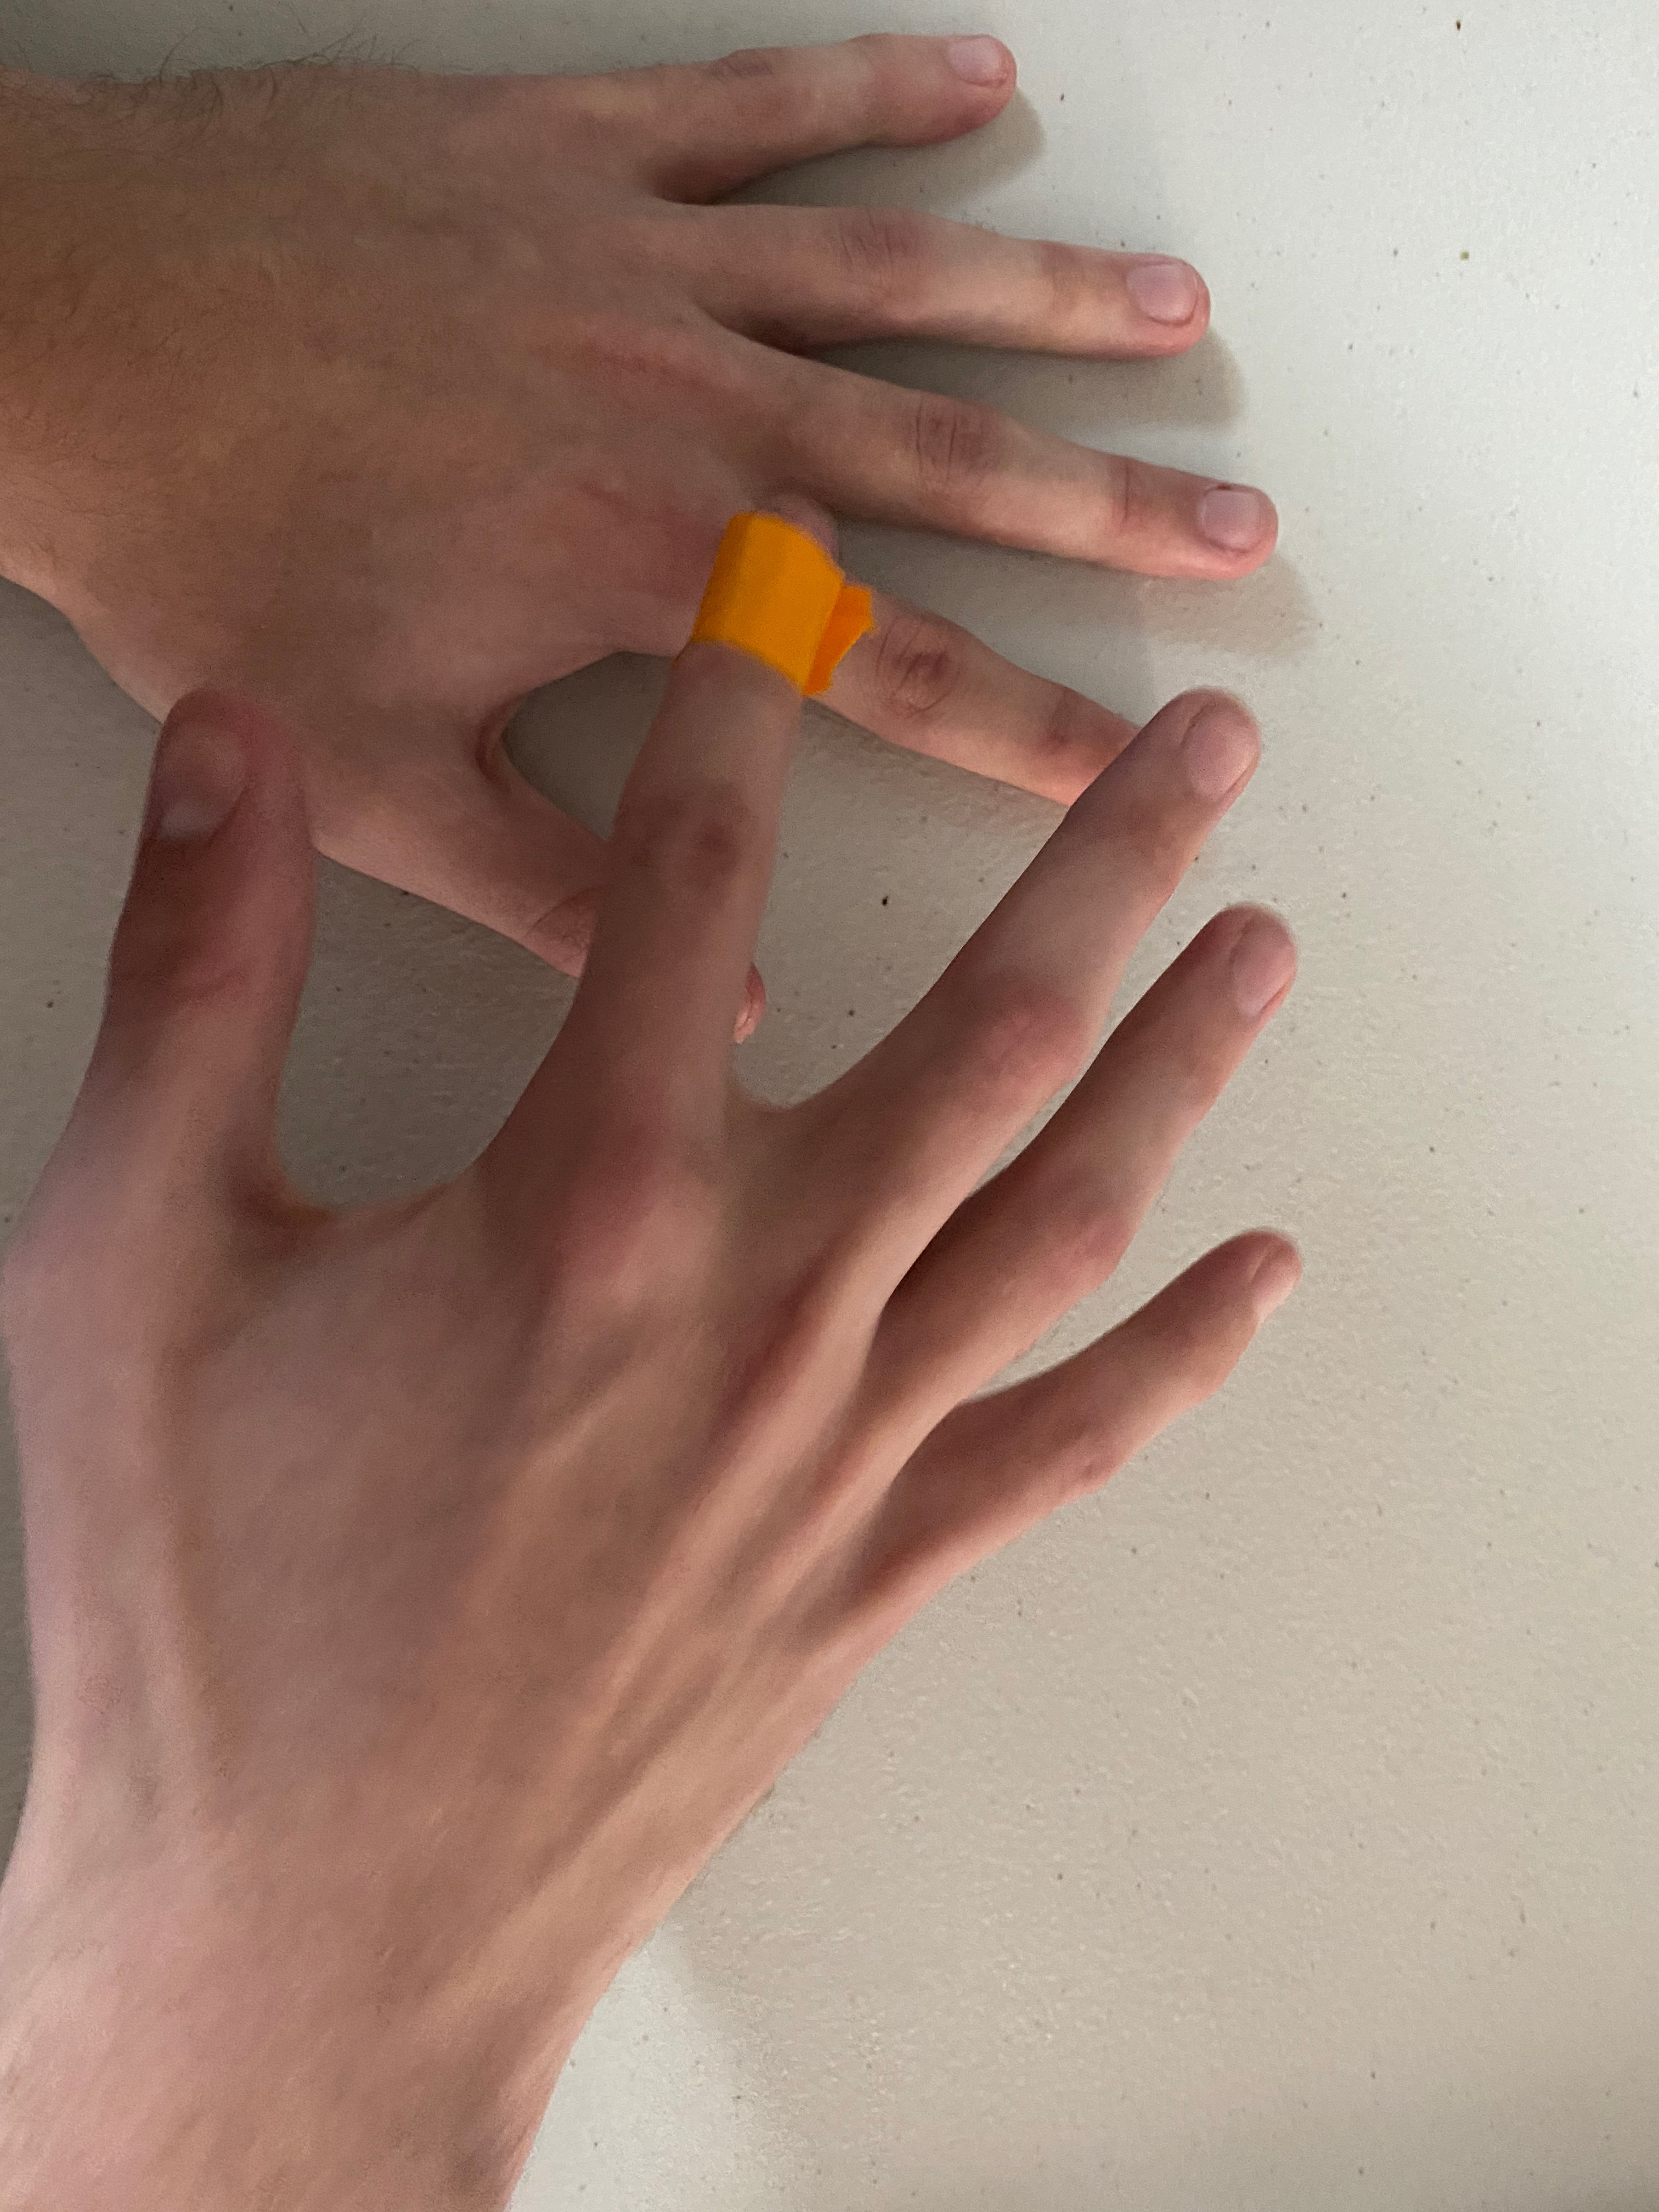fingertip: (701, 503, 884, 747)
